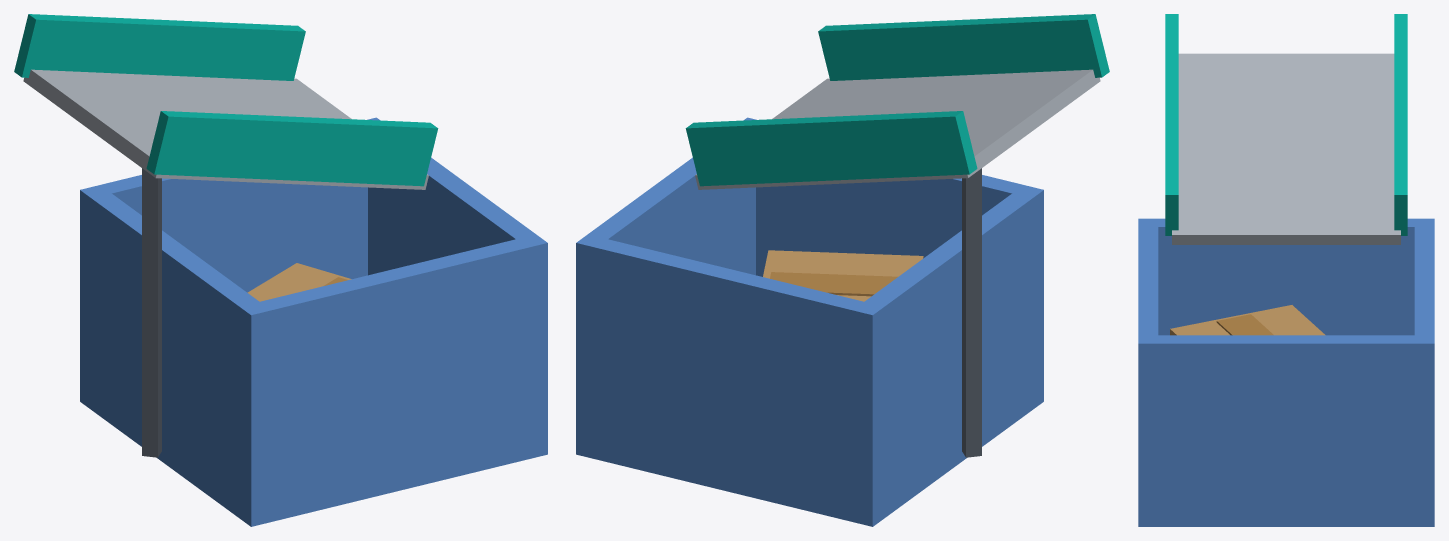
Rendered from station_transport_ausstattung_3_1.glb.
3 renders of one model, left to right at view 1: azimuth 30°, elevation 25°; view 2: azimuth 150°, elevation 25°; view 3: azimuth 270°, elevation 25°, orthographic. The views are drawn at different scales.
Visible parts, largest first — view 1: station_transport_ausstattung_3_1; view 2: station_transport_ausstattung_3_1; view 3: station_transport_ausstattung_3_1.
Boxes of the visible parts, x1=… form: station_transport_ausstattung_3_1: x1=14, y1=14, x2=547, y2=526; station_transport_ausstattung_3_1: x1=576, y1=14, x2=1109, y2=526; station_transport_ausstattung_3_1: x1=1138, y1=14, x2=1434, y2=526.
Size of the model in its own units: 0.5606 by 0.5886 by 0.44.
